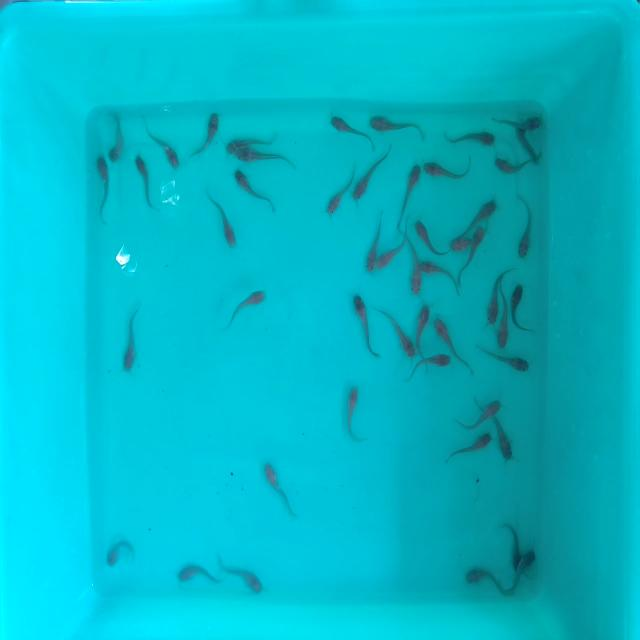lele: (352, 140, 396, 199), (222, 288, 270, 333), (234, 170, 280, 216), (205, 190, 241, 248), (265, 456, 299, 516), (323, 166, 361, 218), (329, 114, 380, 151), (474, 345, 533, 375), (386, 296, 415, 357), (446, 431, 498, 464), (354, 290, 376, 361), (495, 511, 521, 571), (223, 557, 264, 594), (458, 398, 502, 430), (368, 112, 426, 136), (463, 562, 504, 594), (423, 158, 475, 181), (94, 155, 111, 224), (434, 310, 461, 352), (422, 259, 456, 292), (490, 414, 514, 460), (518, 198, 536, 258), (491, 114, 545, 134), (197, 109, 220, 155), (178, 562, 222, 586), (246, 146, 296, 167), (156, 127, 181, 169), (123, 306, 139, 371), (135, 155, 154, 209), (412, 221, 444, 253), (348, 388, 365, 447), (486, 269, 502, 328), (521, 126, 545, 165), (228, 132, 280, 150), (412, 353, 449, 378), (446, 133, 500, 150), (465, 198, 498, 225), (470, 226, 490, 269), (494, 154, 534, 175), (403, 165, 422, 209), (512, 282, 529, 330), (105, 538, 132, 568), (378, 239, 403, 271), (416, 303, 433, 350), (364, 218, 378, 275), (520, 549, 538, 592), (497, 294, 511, 347), (408, 249, 423, 296), (109, 119, 125, 162), (447, 233, 471, 253)
